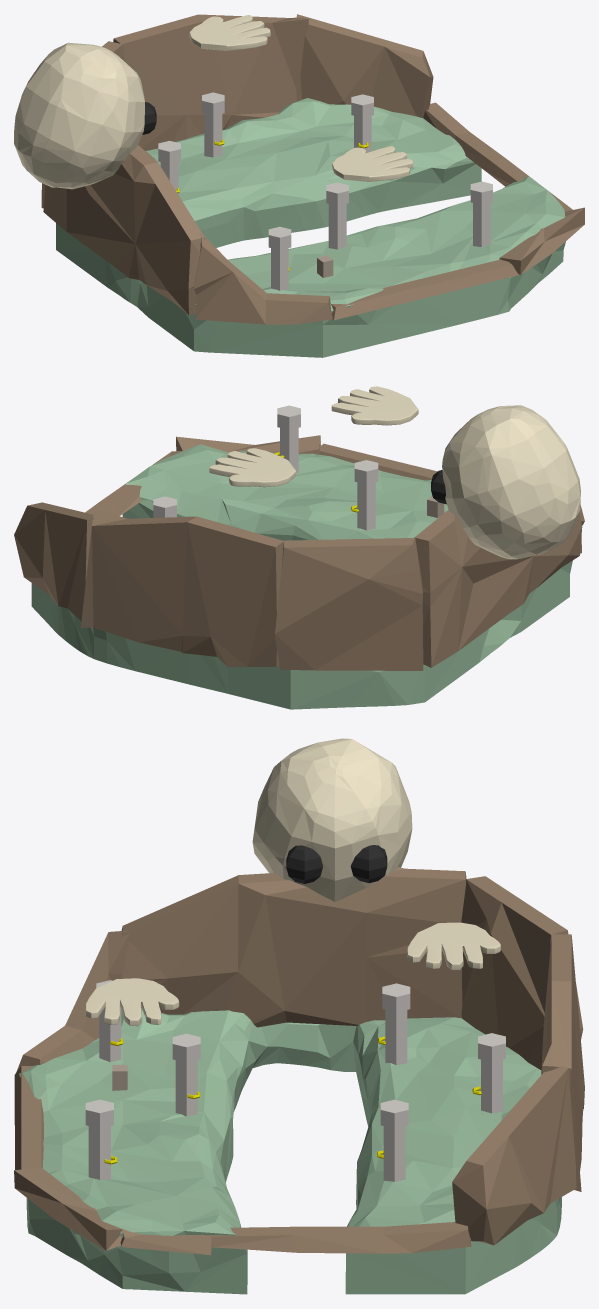
File: Boss_Level.fbx
3 views of the same model, one above another, from view 1: azimuth 30°, elevation 25°; view 2: azimuth 150°, elevation 25°; view 3: azimuth 270°, elevation 25° (orthographic). The views are drawn at different scales.
Visible parts, largest first — view 1: floor, walls, head, hand_1, hand_2, column_6, column_2, column_4, column_5, column_3, column_1; view 2: walls, floor, head, hand_1, hand_2, column_6, column_4, column_3; view 3: walls, floor, head, hand_2, hand_1, column_3, column_1, column_6, column_4, column_2, eye_2, eye_1 (+1 smaller).
Boxes of the visible parts, x1,y1,x2,y2 form: floor: (56,98,565,357); walls: (41,14,584,324); head: (14,42,144,189); hand_1: (189,15,270,50); hand_2: (332,146,413,181); column_6: (326,182,348,249); column_2: (202,92,224,157); column_4: (470,181,492,246); column_5: (268,226,291,290); column_3: (351,94,373,152); column_1: (158,140,180,194); walls: (14,435,584,670); floor: (31,444,572,709); head: (442,405,580,559); hand_1: (209,448,296,487); hand_2: (331,386,418,425); column_6: (354,460,378,530); column_4: (277,405,300,473); column_3: (153,496,176,517); walls: (14,867,584,1255); floor: (19,1008,561,1294); head: (252,738,412,901); hand_2: (85,978,179,1026); hand_1: (407,922,500,970); column_3: (380,1099,408,1181); column_1: (382,983,410,1065); column_6: (172,1033,200,1116); column_4: (85,1099,113,1179); column_2: (478,1033,505,1113); eye_2: (286,845,322,883); eye_1: (350,845,387,882).
Size of the model in its own units: 22.73 by 11.27 by 19.03.
